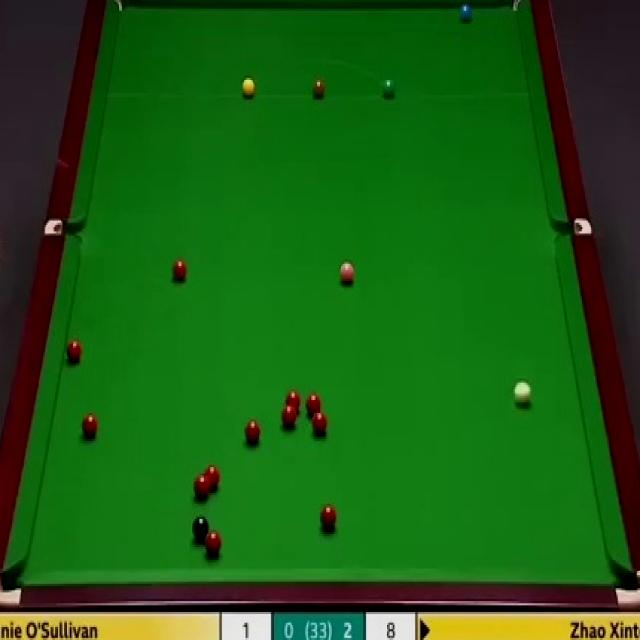black-ball: (191, 517, 209, 541)
blue-ball: (460, 2, 472, 26)
brown-ball: (312, 78, 326, 98)
green-ball: (380, 79, 394, 98)
pink-ball: (339, 264, 356, 288)
red-ball: (312, 409, 329, 439), (194, 476, 213, 502), (66, 340, 83, 368), (319, 503, 336, 530), (244, 417, 260, 444), (83, 412, 99, 438), (204, 465, 221, 489), (204, 530, 221, 554), (282, 406, 299, 429), (285, 389, 301, 412), (306, 393, 322, 416), (172, 261, 187, 281)
white-ball: (512, 381, 530, 404)
yellow-ball: (241, 78, 256, 98)
